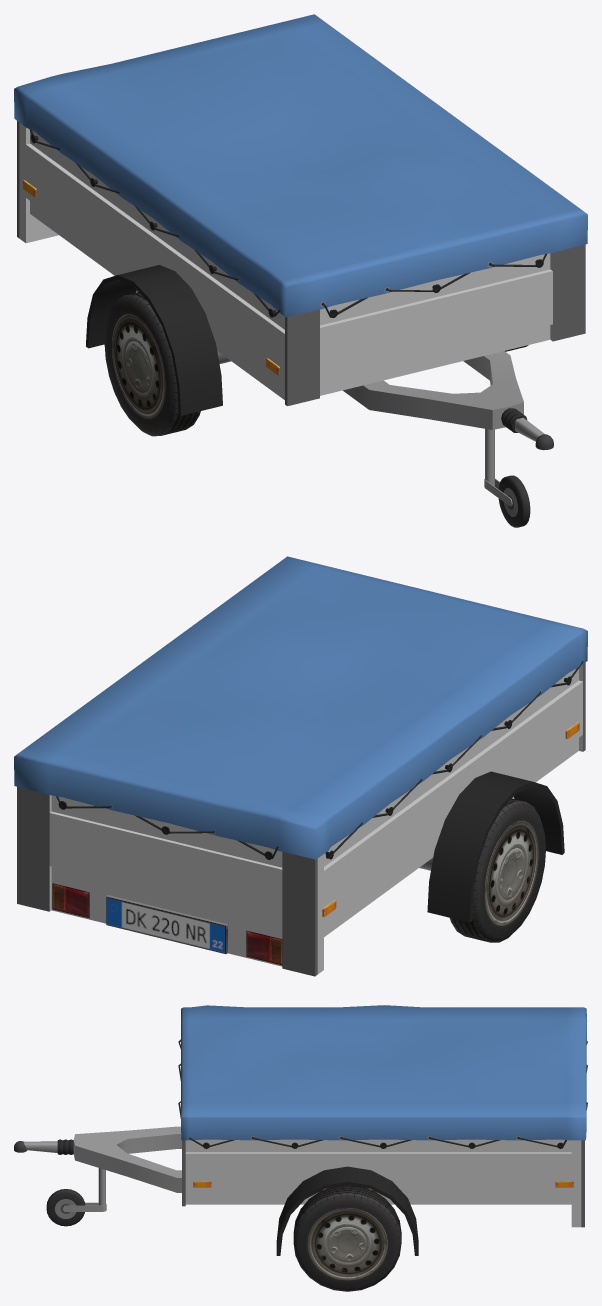
The model's file is sweethome3d-scopia-trailer.glb.
The picture shows the model from 3 angles, top to bottom: view 1: azimuth 30°, elevation 25°; view 2: azimuth 150°, elevation 25°; view 3: azimuth 270°, elevation 25°; orthographic projection. The views are drawn at different scales.
Parts seen in each view (by area): view 1: Cover_Cube.003, Remorque_Cube, Mudguard_Cylinder.004, wheels_Cylinder.002, Fender_Cube.002, LittleWheel_Cylinder.005, Ropes_Plane, Fender.001_Cube.001; view 2: Cover_Cube.003, Remorque_Cube, Mudguard_Cylinder.004, wheels_Cylinder.002, LicensePlates_mesh.010, Lights_Texture, Ropes_Plane; view 3: Cover_Cube.003, Remorque_Cube, wheels_Cylinder.002, Fender_Cube.002, Mudguard_Cylinder.004, LittleWheel_Cylinder.005, Ropes_Plane, Fender.001_Cube.001, Bridge_Cube.005.
Part boxes in pixels (<box>): Cover_Cube.003: <box>14,14,587,317</box>; Remorque_Cube: <box>17,121,585,406</box>; Mudguard_Cylinder.004: <box>86,265,222,415</box>; wheels_Cylinder.002: <box>104,292,528,436</box>; Fender_Cube.002: <box>343,351,523,429</box>; LittleWheel_Cylinder.005: <box>498,475,530,527</box>; Ropes_Plane: <box>29,129,546,317</box>; Fender.001_Cube.001: <box>484,429,512,506</box>; Cover_Cube.003: <box>14,556,587,859</box>; Remorque_Cube: <box>17,662,585,976</box>; Mudguard_Cylinder.004: <box>427,771,564,922</box>; wheels_Cylinder.002: <box>450,798,545,942</box>; LicensePlates_mesh.010: <box>106,895,227,953</box>; Lights_Texture: <box>52,722,579,965</box>; Ropes_Plane: <box>56,661,583,858</box>; Cover_Cube.003: <box>181,1005,586,1140</box>; Remorque_Cube: <box>182,1139,584,1227</box>; wheels_Cylinder.002: <box>293,1185,401,1291</box>; Fender_Cube.002: <box>73,1126,181,1192</box>; Mudguard_Cylinder.004: <box>276,1166,418,1255</box>; LittleWheel_Cylinder.005: <box>46,1189,85,1226</box>; Ropes_Plane: <box>178,1039,587,1147</box>; Fender.001_Cube.001: <box>63,1168,106,1211</box>; Bridge_Cube.005: <box>14,1141,57,1152</box>.
Bounding box in the file's own units: 180 × 102 × 313.
Materials: 20 (5 with a texture image).
